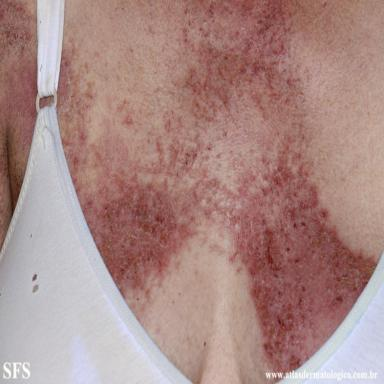Darier_s-Disease: (59, 0, 379, 373), (0, 2, 37, 248)
